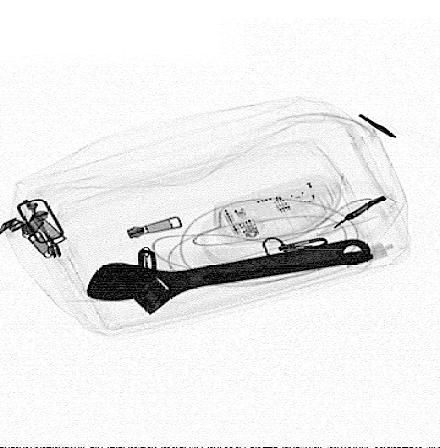Wrench: (84, 239, 375, 314)
